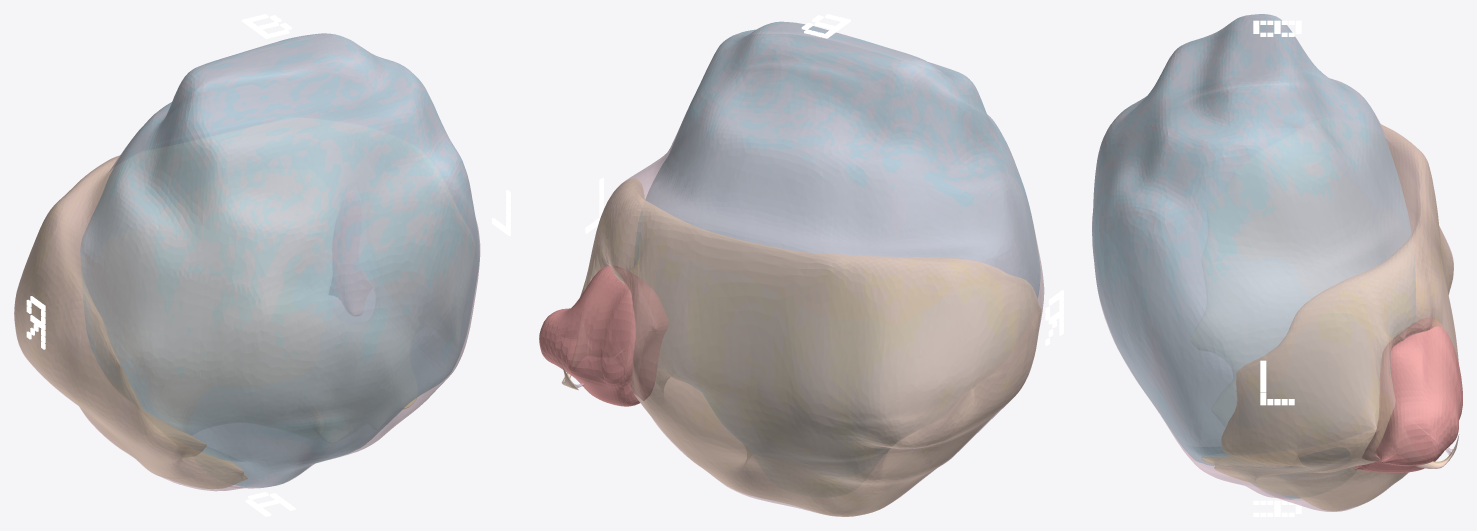
3 renders of one model, left to right at view 1: azimuth 30°, elevation 25°; view 2: azimuth 150°, elevation 25°; view 3: azimuth 270°, elevation 25°, orthographic.
Parts seen in each view (by area): view 1: prostate_gland, transition_zone, peripheral_zone, lesion_01, pv_ar_marker_B, pv_ar_marker_R; view 2: prostate_gland, peripheral_zone, transition_zone, lesion_01, pv_ar_marker_B; view 3: prostate_gland, transition_zone, peripheral_zone, lesion_01, pv_ar_marker_B, pv_ar_marker_A, pv_ar_marker_L.
Part boxes in pixels (box(x1,y1,x2,y2)): prostate_gland: box(14, 33, 480, 491); transition_zone: box(80, 33, 479, 487); peripheral_zone: box(14, 156, 416, 488); lesion_01: box(329, 191, 372, 315); pv_ar_marker_B: box(242, 14, 291, 38); pv_ar_marker_R: box(26, 296, 45, 349); prostate_gland: box(561, 21, 1044, 516); peripheral_zone: box(562, 178, 1041, 516); transition_zone: box(634, 21, 1040, 460); lesion_01: box(539, 265, 668, 406); pv_ar_marker_B: box(801, 14, 850, 38); prostate_gland: box(1092, 14, 1459, 511); transition_zone: box(1092, 14, 1415, 498); peripheral_zone: box(1201, 124, 1458, 510); lesion_01: box(1354, 318, 1462, 472); pv_ar_marker_B: box(1253, 20, 1301, 36); pv_ar_marker_A: box(1253, 500, 1301, 516); pv_ar_marker_L: box(1260, 360, 1294, 405).
Size of the model in its own units: 0.0574 by 0.0563 by 0.0393.
